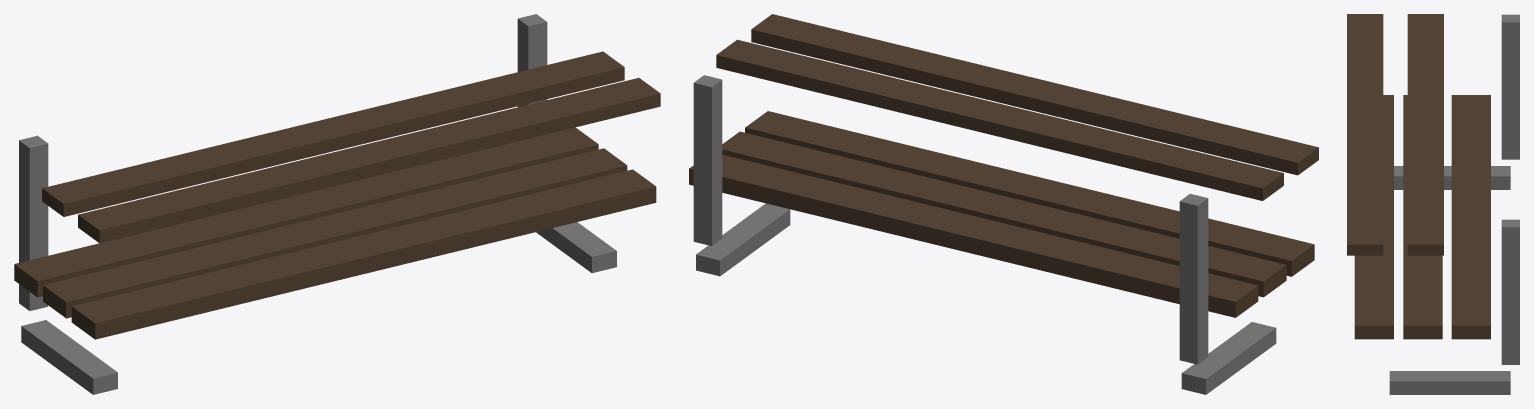
File: bench.glb
The picture shows the model from 3 angles, left to right: view 1: azimuth 30°, elevation 25°; view 2: azimuth 150°, elevation 25°; view 3: azimuth 270°, elevation 25°; orthographic projection. The views are drawn at different scales.
Visible parts, largest first — view 1: bench; view 2: bench; view 3: bench.
Boxes of the visible parts, box(x1,y1,x2,y2) form: bench: box(14, 14, 660, 394); bench: box(689, 14, 1318, 394); bench: box(1347, 14, 1519, 394).
Bounding box in the file's own units: 1.8 × 0.605 × 0.57.
2 materials, 2 textured.
